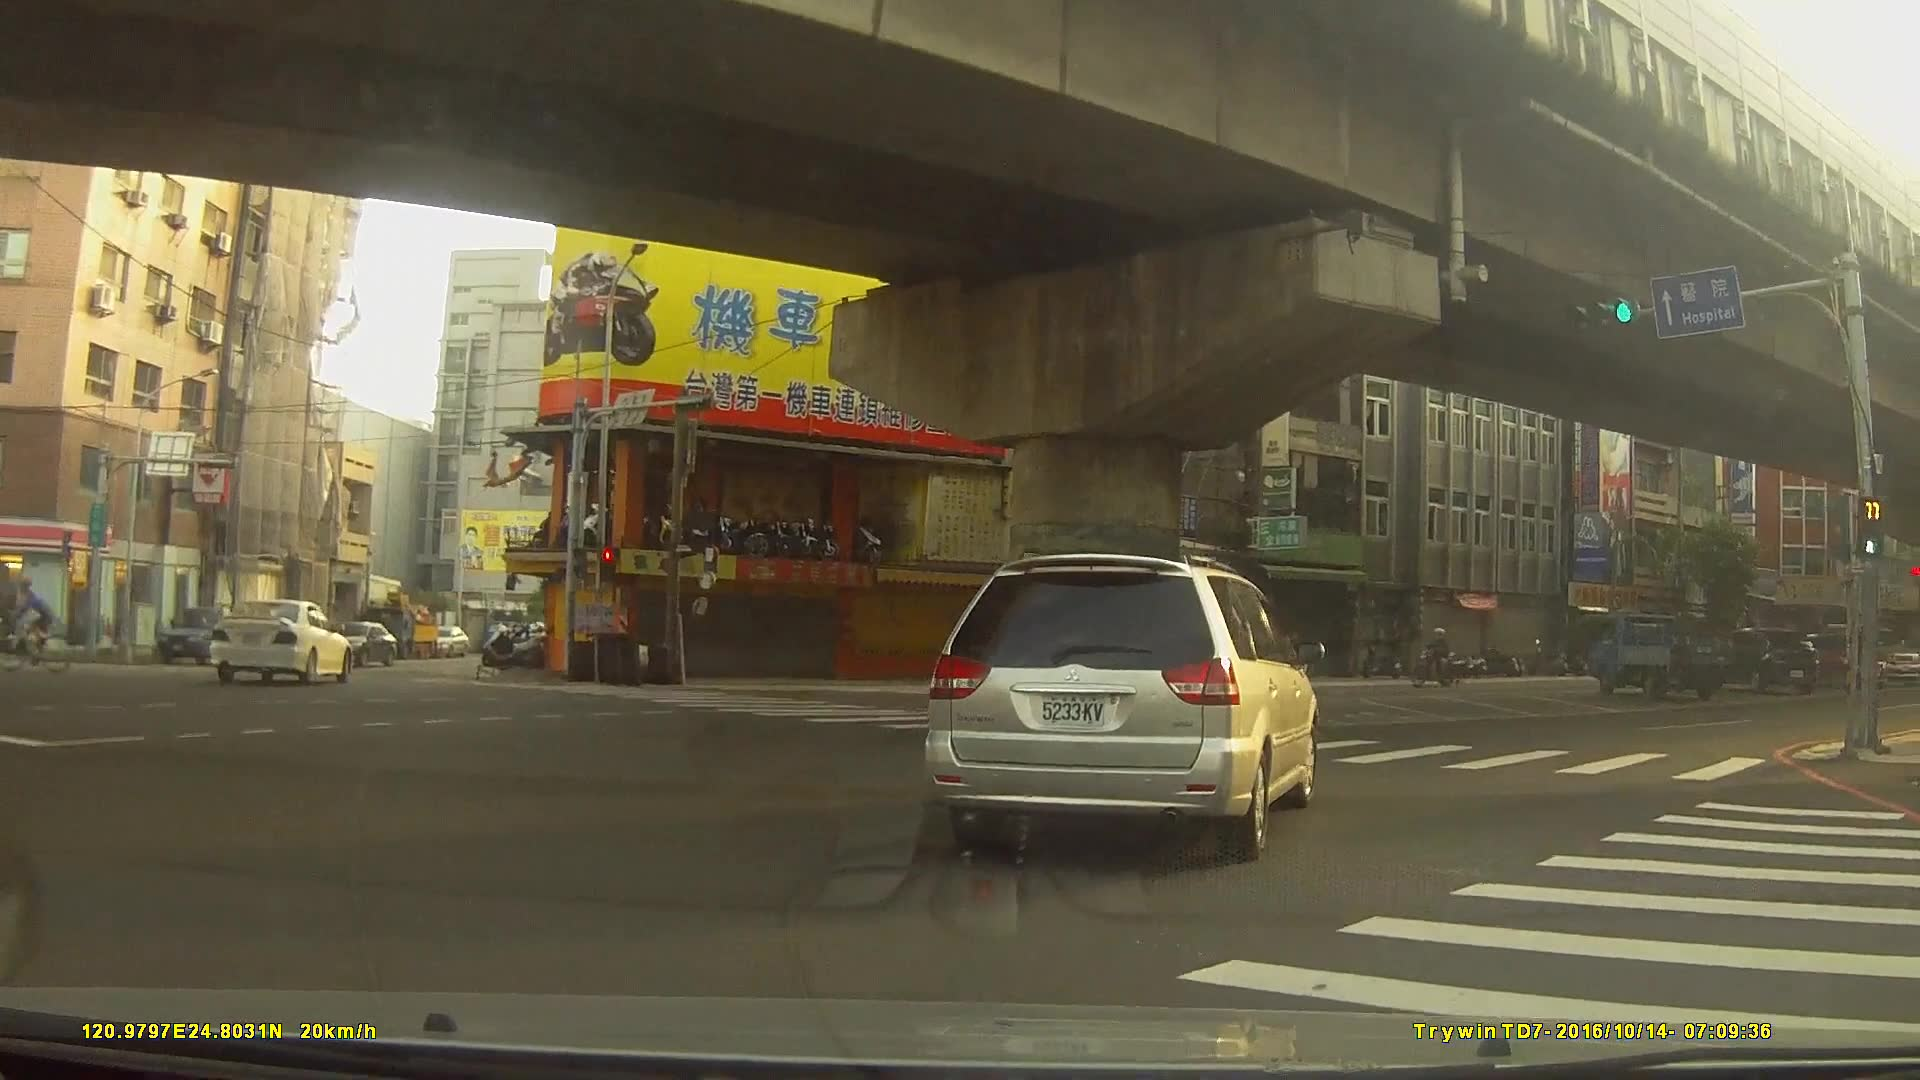rider: (1, 579, 80, 675), (1409, 627, 1464, 688)
vehicle: (920, 552, 1316, 859), (1588, 612, 1737, 700), (206, 596, 351, 684), (1703, 629, 1822, 696), (158, 603, 250, 664), (328, 621, 397, 665), (427, 626, 467, 657)
